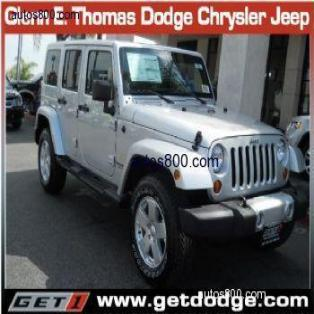Auto: (32, 37, 302, 285)
